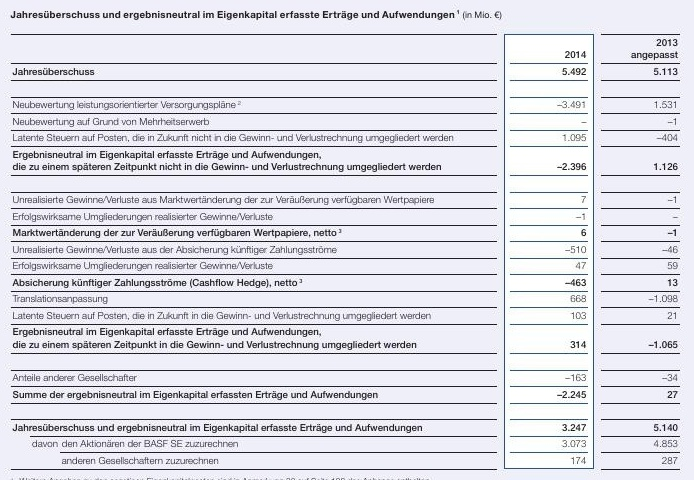table: (0, 0, 694, 480)
